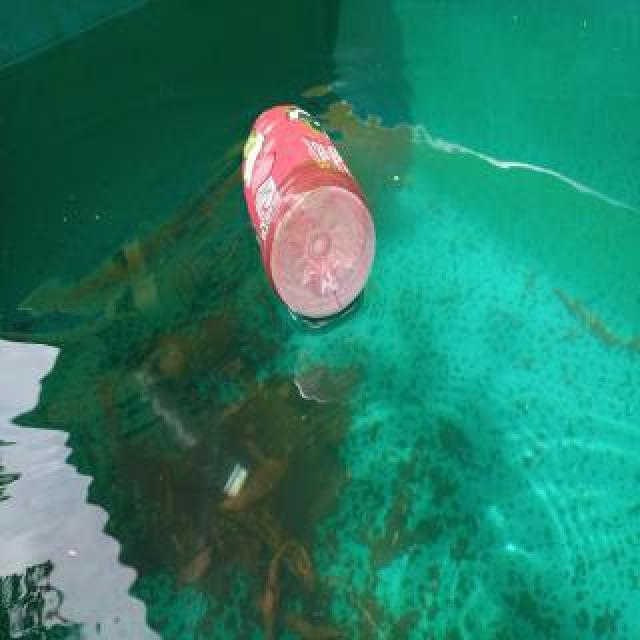bottle: (243, 100, 377, 322)
